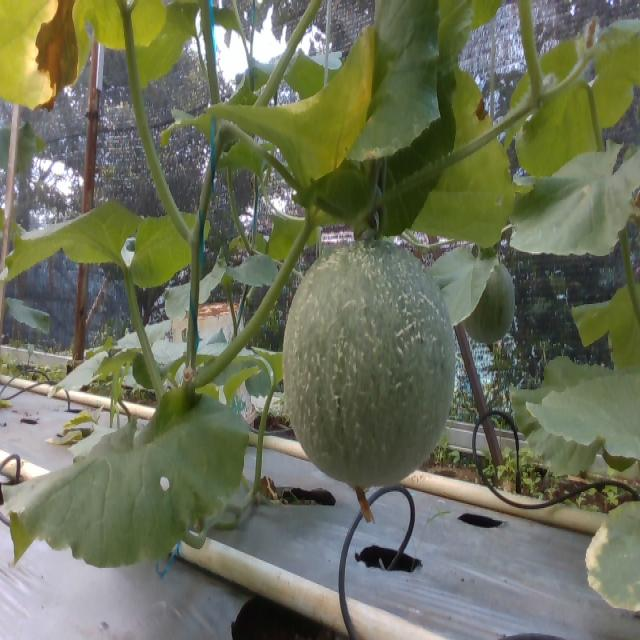melon: (284, 240, 456, 487)
